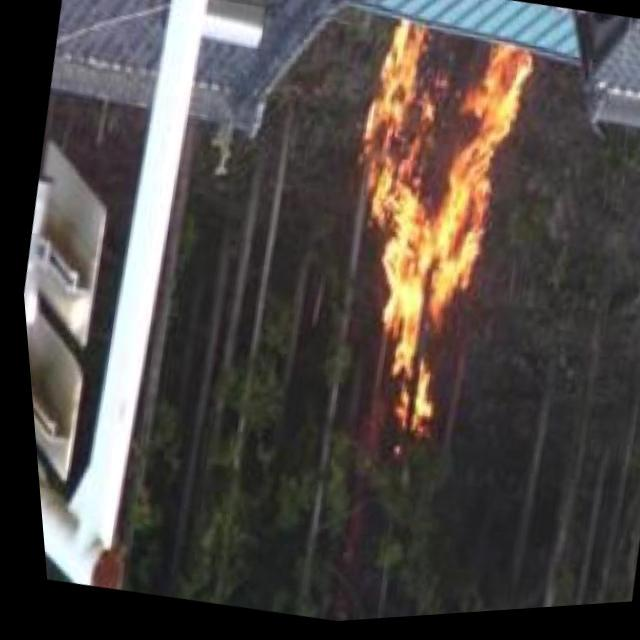fire: (290, 9, 560, 443)
